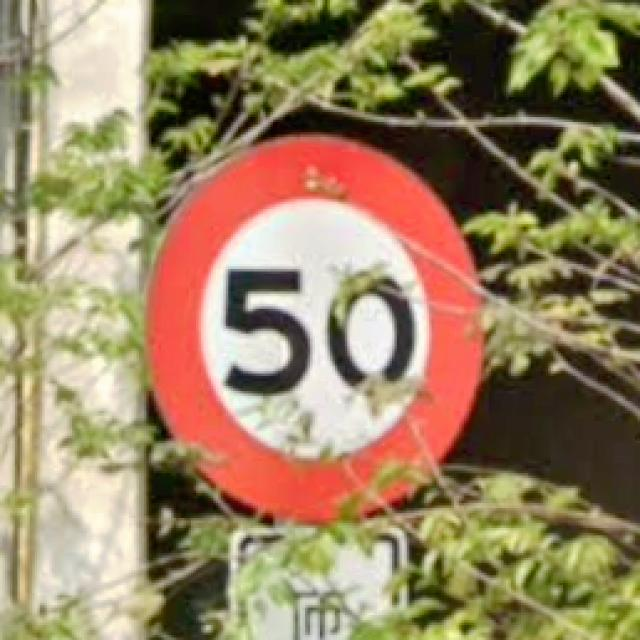max50: (141, 130, 489, 526)
